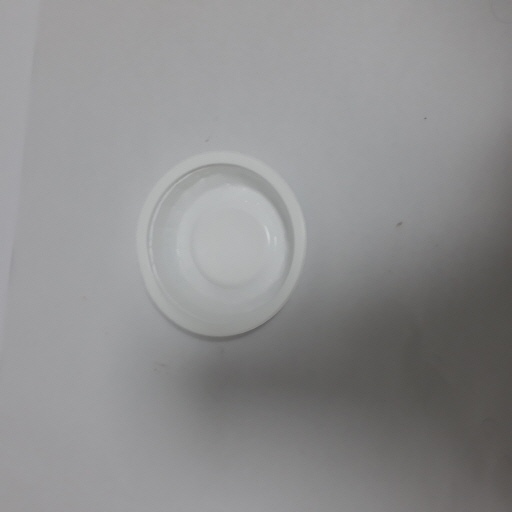Plastic_5: (131, 146, 306, 341)
